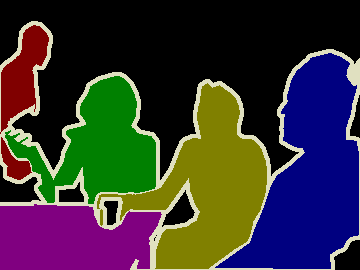diningtable: (1, 202, 168, 270)
person: (93, 84, 271, 270), (213, 62, 360, 270), (1, 75, 161, 207), (1, 30, 53, 180)
